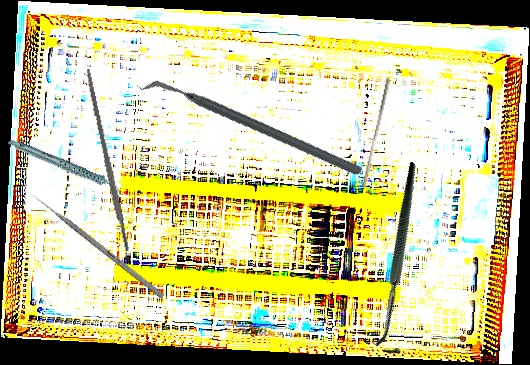Chopper: (138, 12, 365, 245)
Handpiece: (7, 117, 124, 217)
Hook Surgical: (308, 160, 498, 361)
Pusher: (28, 190, 166, 300), (361, 77, 391, 189)
Scalpel Handle: (83, 68, 131, 252)
